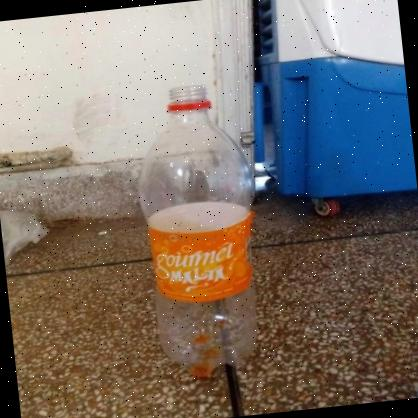bottle: (114, 69, 276, 386)
label: (144, 202, 263, 304)
